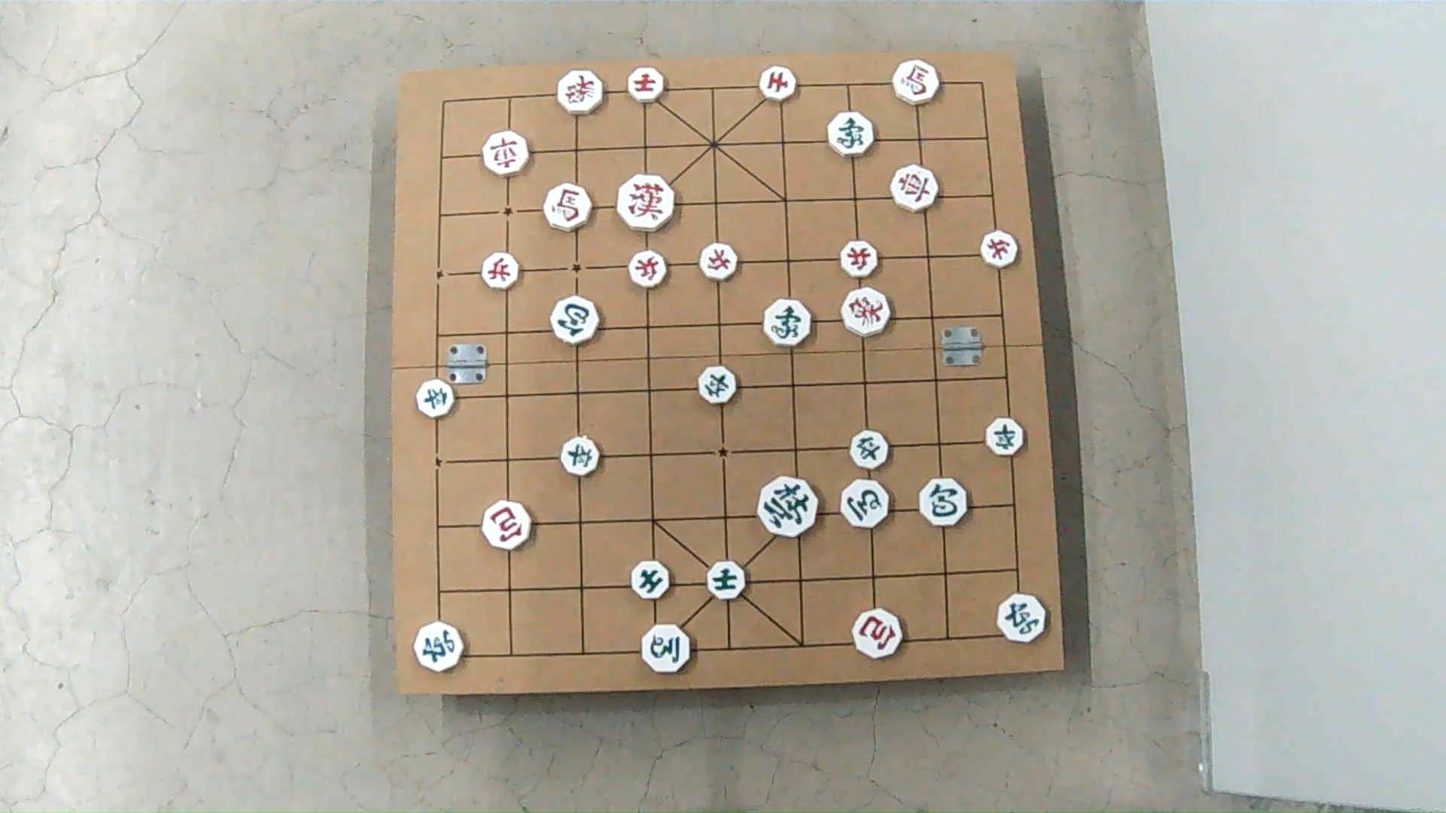cha_green: (413, 621, 462, 671), (998, 595, 1047, 644)
cha_red: (891, 164, 938, 212), (483, 132, 529, 175)
jol_green: (563, 437, 601, 477), (699, 367, 737, 406), (416, 380, 454, 419), (985, 419, 1023, 458), (850, 431, 887, 470)
jol_red: (841, 241, 880, 279), (480, 252, 517, 289), (700, 243, 737, 280), (630, 253, 668, 289), (980, 230, 1017, 266)
ma_green: (642, 626, 691, 674), (843, 481, 890, 529)
ma_red: (543, 183, 590, 230), (895, 60, 939, 105)
po_green: (920, 480, 969, 528), (551, 297, 597, 346)
po_red: (480, 502, 530, 552), (853, 609, 901, 659)
sa_green: (707, 560, 746, 598), (633, 559, 671, 598)
sa_red: (759, 65, 796, 101), (627, 68, 664, 103)
sang_green: (763, 299, 810, 346), (830, 111, 877, 156)
sang_red: (840, 287, 891, 336), (557, 70, 604, 114)
wang_green: (759, 477, 819, 537)
wang_red: (620, 174, 677, 230)
